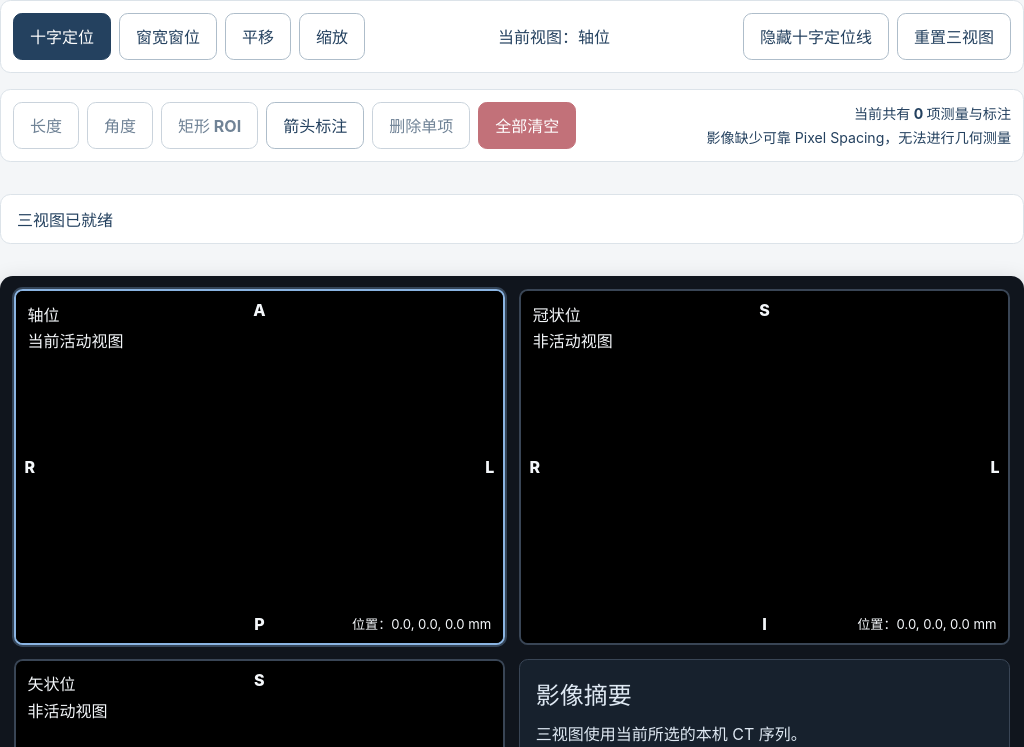
Test: retries a failed MPR reset DELETE and leaves the runtime at defaults
The width and height of the screenshot is (1024, 747).
Click the button "重置三视图": {"x": 954, "y": 36} 897,13 -> 1011,60
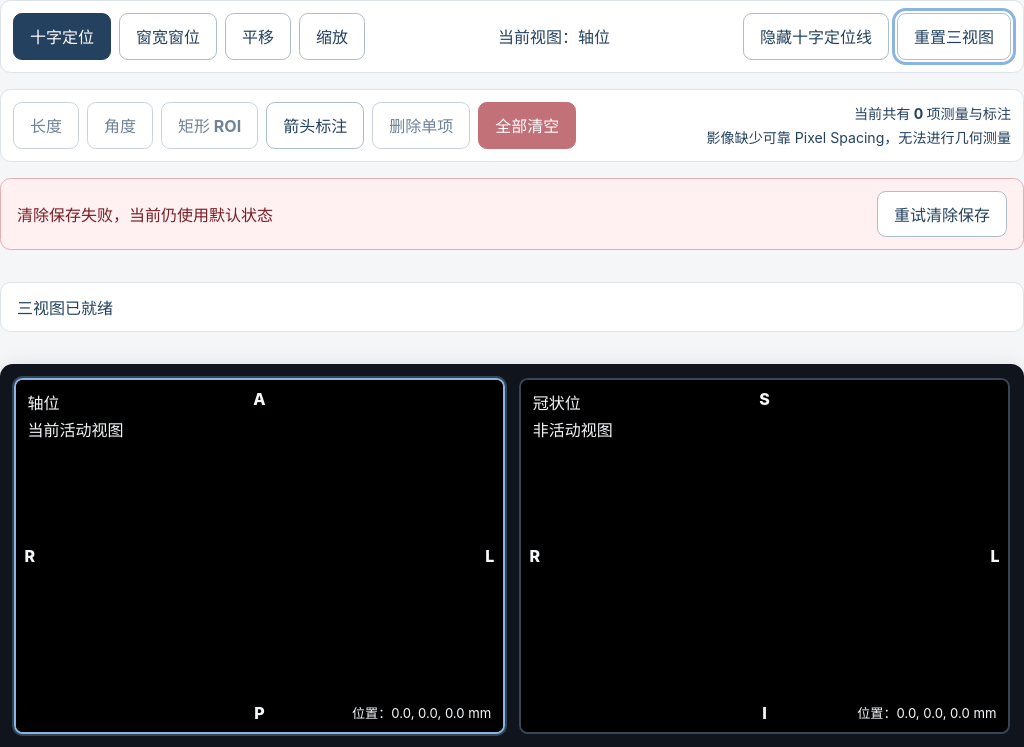
Expected: the text "清除保存失败，当前仍使用默认状态" is shown, 17,202 -> 273,226
Click the button "重试清除保存": {"x": 942, "y": 214} 877,191 -> 1007,237
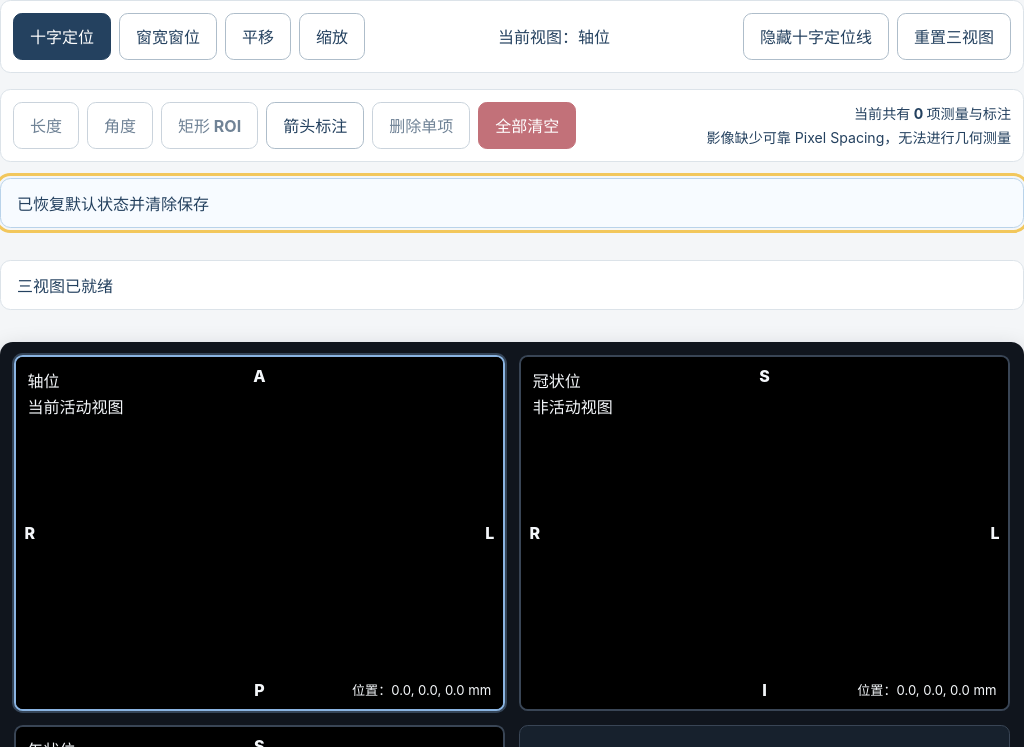
Expected: the text "已恢复默认状态并清除保存" is shown, 17,191 -> 209,215
